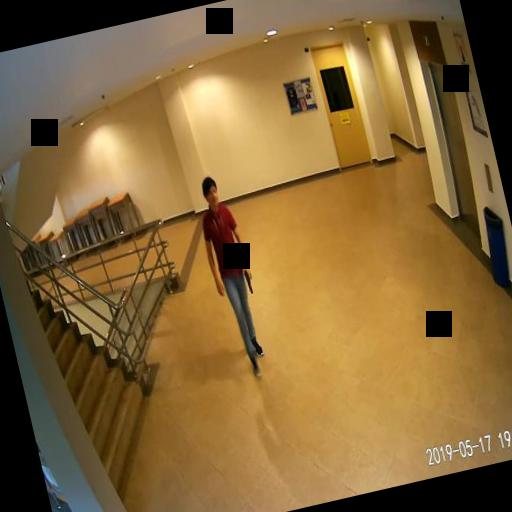Handgun: (242, 268, 254, 293)
